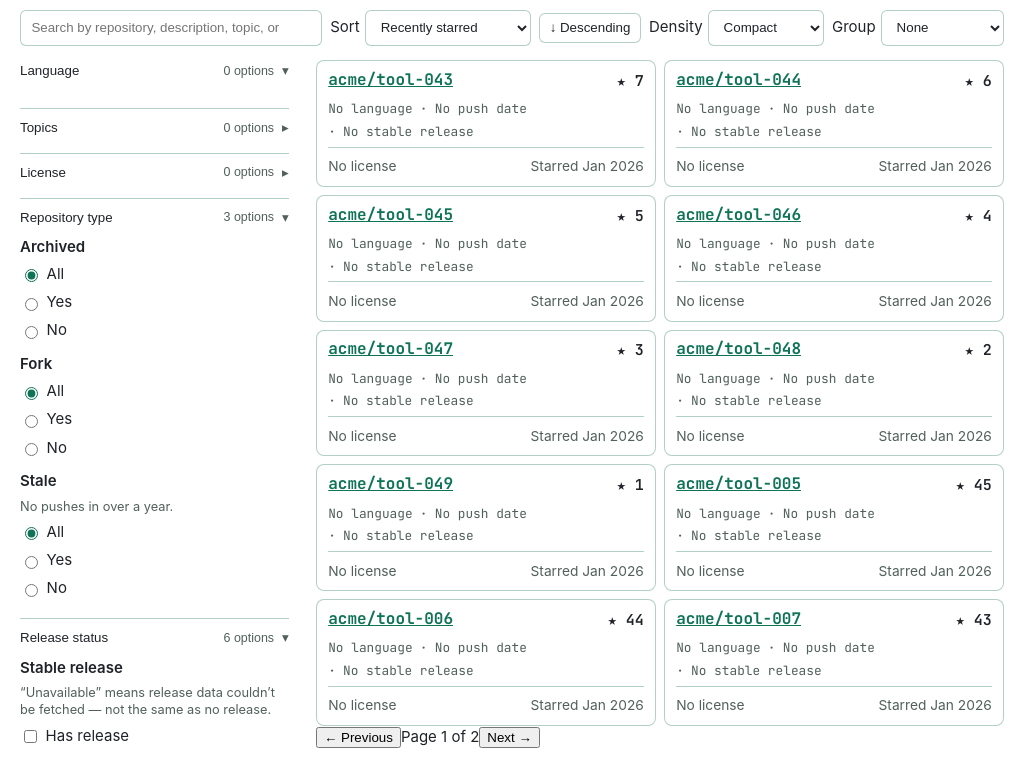
RepositoryView — pagination (§6.2) › PAGE-4: a search (semantic change) resets pagination to page 1
(page scrolled)
Click the button "Next →" at {"x": 510, "y": 737}, box [479, 727, 540, 748]
(page scrolled)
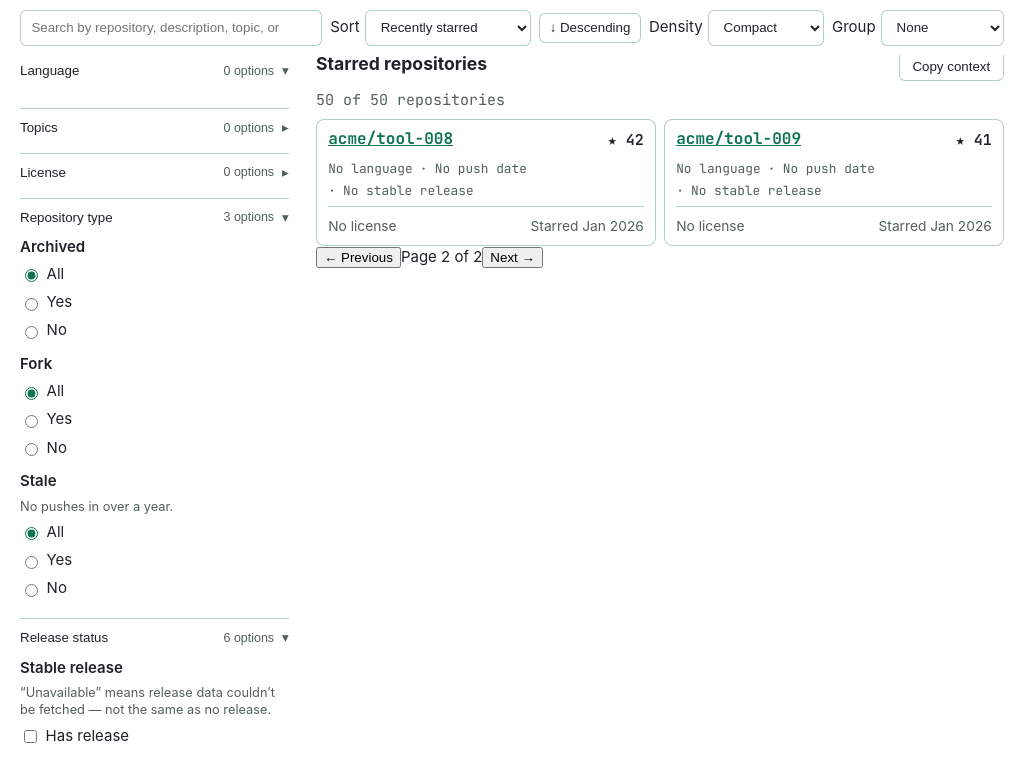
Type "tool" into the search field named "Search repositories" at {"x": 171, "y": 28}, box [20, 10, 322, 46]
(page scrolled)
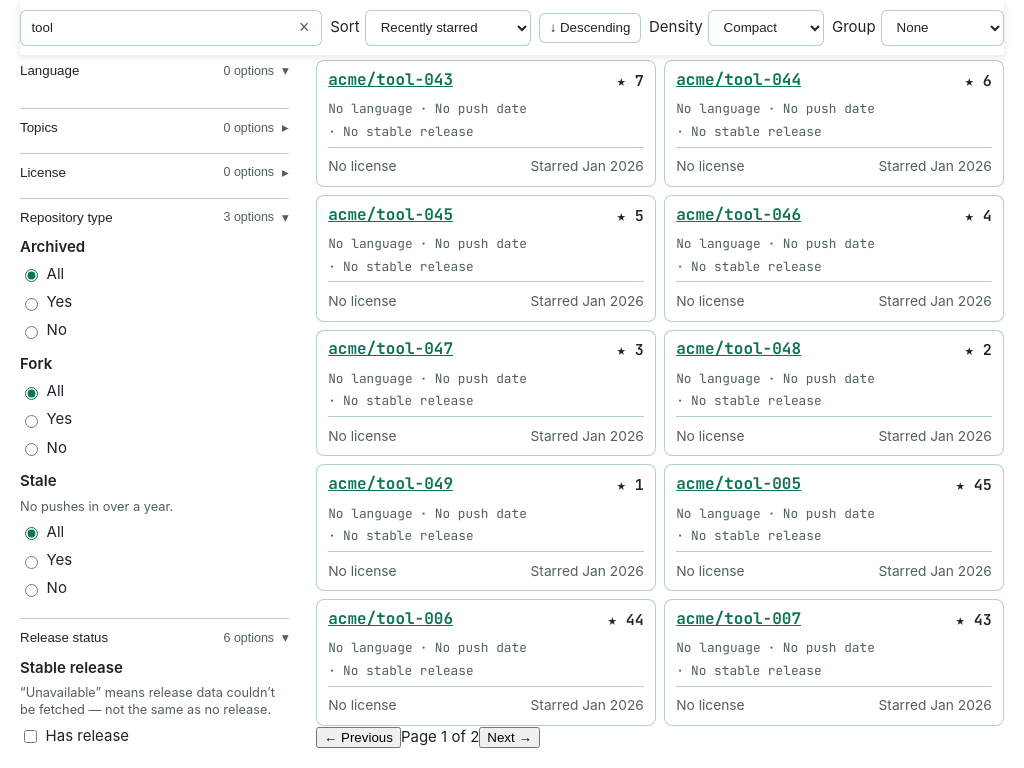
Result: the text "Page 1 of 2" is shown at [401, 727, 479, 746]
